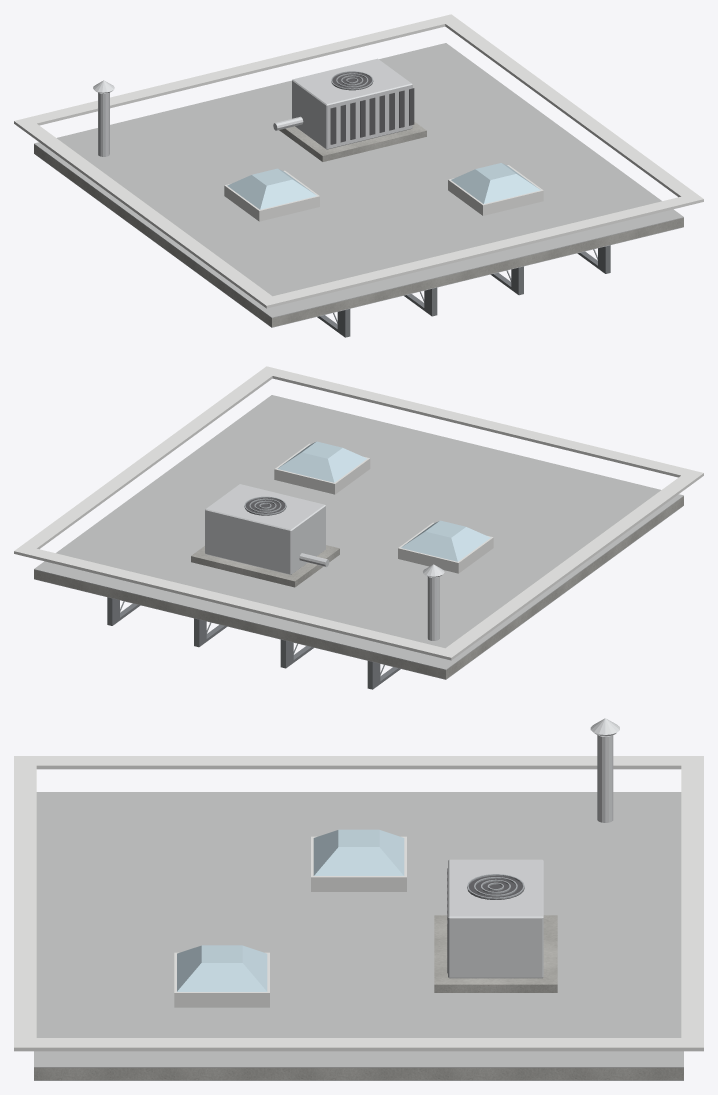
Rendered from g_roof.glb.
The picture shows the model from 3 angles, top to bottom: view 1: azimuth 30°, elevation 25°; view 2: azimuth 150°, elevation 25°; view 3: azimuth 270°, elevation 25°; orthographic projection. The views are drawn at different scales.
Parts seen in each view (by area): view 1: g_roof_roofm, g_roof_coping, g_roof_concrete, g_roof_metal, g_roof_glass, g_roof_dark, g_roof_steel_d; view 2: g_roof_roofm, g_roof_coping, g_roof_metal, g_roof_concrete, g_roof_glass, g_roof_steel_d; view 3: g_roof_roofm, g_roof_coping, g_roof_metal, g_roof_concrete, g_roof_glass, g_roof_dark, g_roof_steel.
Part boxes in pixels (x1,y1,x2,y2): g_roof_roofm: [34, 43, 683, 318]; g_roof_coping: [14, 14, 703, 308]; g_roof_concrete: [34, 122, 683, 327]; g_roof_metal: [34, 58, 683, 327]; g_roof_glass: [227, 163, 540, 209]; g_roof_dark: [330, 72, 414, 144]; g_roof_steel_d: [317, 245, 610, 337]; g_roof_roofm: [34, 395, 683, 670]; g_roof_coping: [14, 366, 703, 660]; g_roof_metal: [34, 484, 683, 679]; g_roof_concrete: [34, 496, 683, 679]; g_roof_glass: [277, 441, 490, 561]; g_roof_steel_d: [107, 597, 400, 689]; g_roof_roofm: [34, 792, 683, 1067]; g_roof_coping: [14, 756, 703, 1051]; g_roof_metal: [34, 718, 683, 1080]; g_roof_concrete: [34, 915, 683, 1080]; g_roof_glass: [177, 829, 404, 991]; g_roof_dark: [447, 868, 524, 973]; g_roof_steel: [467, 874, 524, 899].
Size of the model in its own units: 10.08 by 2.47 by 10.08.
Materials: 8 (1 with a texture image).
